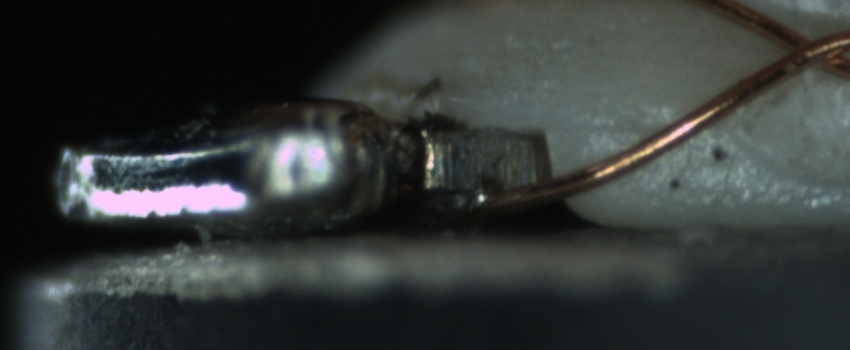CL: (764, 16, 848, 80)
DL: (587, 97, 723, 159)
